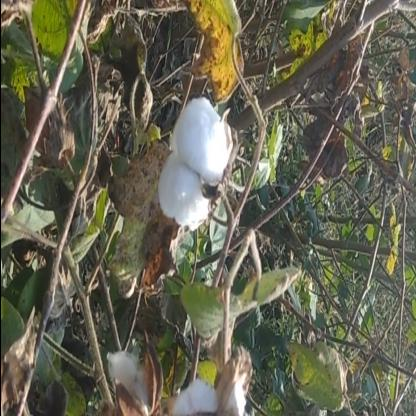cotton_ready: (147, 60, 249, 235)
